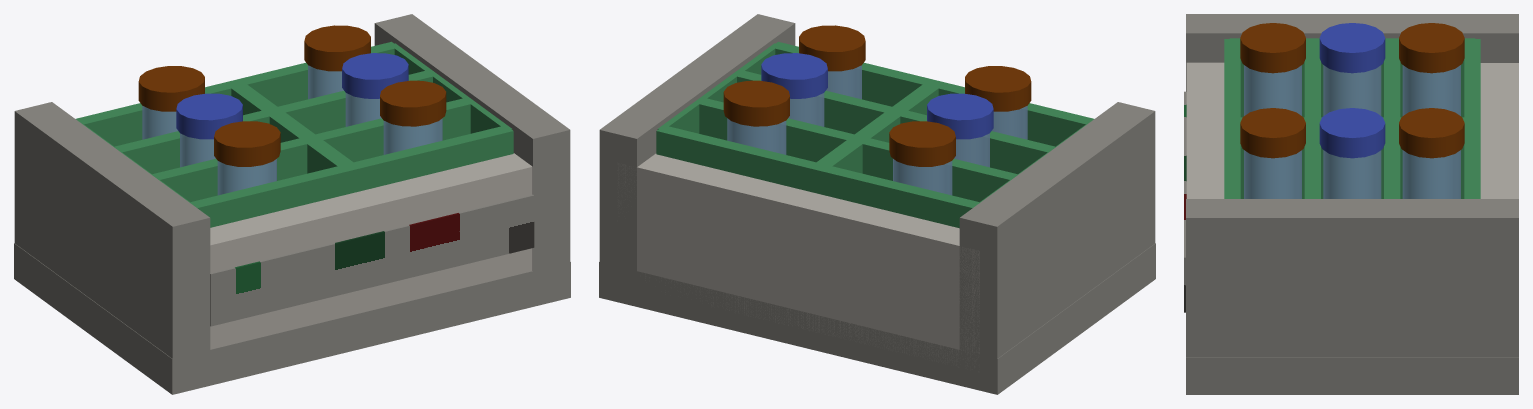
File: CMU3DRMCVialBoxFullMedicalSmallCloud.glb
3 renders of one model, left to right at view 1: azimuth 30°, elevation 25°; view 2: azimuth 150°, elevation 25°; view 3: azimuth 270°, elevation 25°, orthographic. The views are drawn at different scales.
Visible parts, largest first — view 1: left side shell, front labeled rim, bottom storage shell, original vial box lower control markings, right side shell, green insert cross divider -0.124, green insert cross divider -0.041, green insert cross divider 0.124, green insert cross divider 0.041, vial 6 colored cap, vial 5 colored cap, green insert longitudinal divider 0 (+11 smaller); view 2: rear shell, left side shell, bottom storage shell, right side shell, green insert cross divider 0.124, green insert cross divider 0.041, green insert cross divider -0.124, green insert cross divider -0.041, vial 2 colored cap, vial 1 colored cap, green insert longitudinal divider 0, vial 3 colored cap (+10 smaller); view 3: right side shell, bottom storage shell, left side shell, front labeled rim, rear shell, vial 3 colored cap, vial 4 colored cap, vial 2 colored cap, vial 6 colored cap, vial 1 colored cap, vial 5 colored cap, green insert cross divider -0.124 (+12 smaller).
Boxes of the visible parts, left/top/right/bottom form: left side shell: left=14, top=102, right=210, bottom=373; front labeled rim: left=210, top=153, right=532, bottom=349; bottom storage shell: left=14, top=243, right=570, bottom=394; original vial box lower control markings: left=210, top=194, right=534, bottom=326; right side shell: left=374, top=14, right=570, bottom=288; green insert cross divider -0.124: left=190, top=126, right=513, bottom=227; green insert cross divider -0.041: left=152, top=97, right=474, bottom=202; green insert cross divider 0.124: left=76, top=41, right=398, bottom=146; green insert cross divider 0.041: left=115, top=71, right=432, bottom=174; vial 6 colored cap: left=380, top=80, right=446, bottom=126; vial 5 colored cap: left=214, top=121, right=280, bottom=166; green insert longitudinal divider 0: left=231, top=81, right=358, bottom=173; rear shell: left=617, top=153, right=979, bottom=371; left side shell: left=959, top=102, right=1155, bottom=376; bottom storage shell: left=599, top=243, right=1155, bottom=394; right side shell: left=599, top=14, right=795, bottom=288; green insert cross divider 0.124: left=656, top=126, right=979, bottom=228; green insert cross divider 0.041: left=695, top=97, right=1018, bottom=202; green insert cross divider -0.124: left=771, top=41, right=1093, bottom=146; green insert cross divider -0.041: left=737, top=71, right=1054, bottom=174; vial 2 colored cap: left=723, top=80, right=789, bottom=126; vial 1 colored cap: left=889, top=121, right=955, bottom=166; green insert longitudinal divider 0: left=811, top=81, right=938, bottom=173; vial 3 colored cap: left=927, top=93, right=993, bottom=139; right side shell: left=1186, top=199, right=1518, bottom=356; bottom storage shell: left=1186, top=357, right=1518, bottom=394; left side shell: left=1186, top=14, right=1518, bottom=91; front labeled rim: left=1186, top=62, right=1224, bottom=198; rear shell: left=1480, top=63, right=1518, bottom=198; vial 3 colored cap: left=1319, top=23, right=1385, bottom=73; vial 4 colored cap: left=1319, top=108, right=1385, bottom=158; vial 2 colored cap: left=1399, top=108, right=1464, bottom=158; vial 6 colored cap: left=1240, top=108, right=1305, bottom=158; vial 1 colored cap: left=1399, top=23, right=1464, bottom=73; vial 5 colored cap: left=1240, top=23, right=1305, bottom=73; green insert cross divider -0.124: left=1224, top=39, right=1240, bottom=198.
Bounding box in the file's own units: 0.5 × 0.242 × 0.346.
8 materials, 1 textured.
